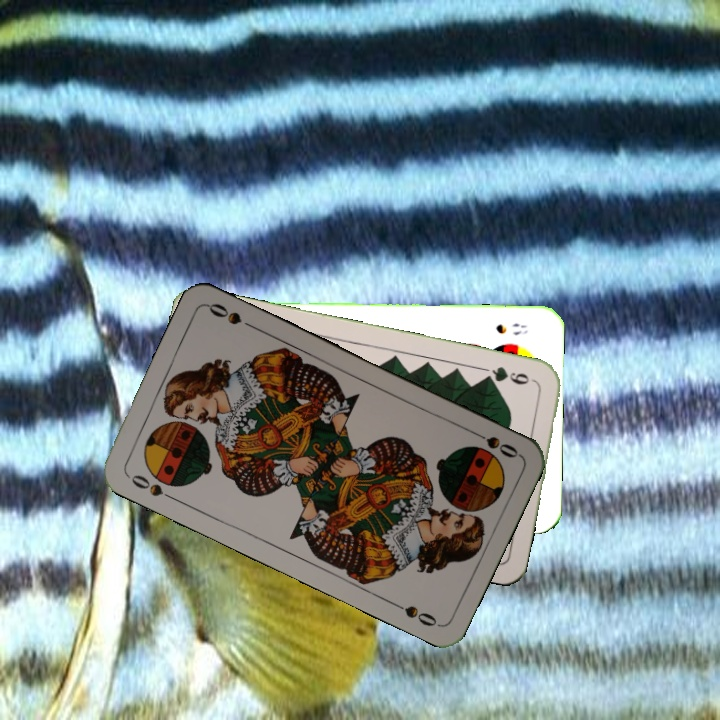G9: (479, 362, 532, 388)
S8: (492, 319, 530, 338)
SO: (466, 426, 521, 461), (123, 470, 179, 504)
